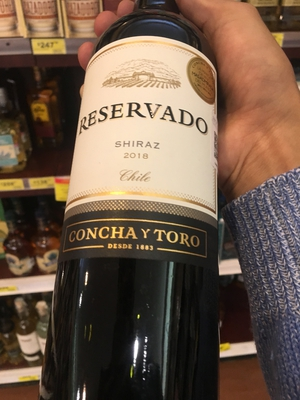reservado shiraz: (61, 27, 231, 385)
